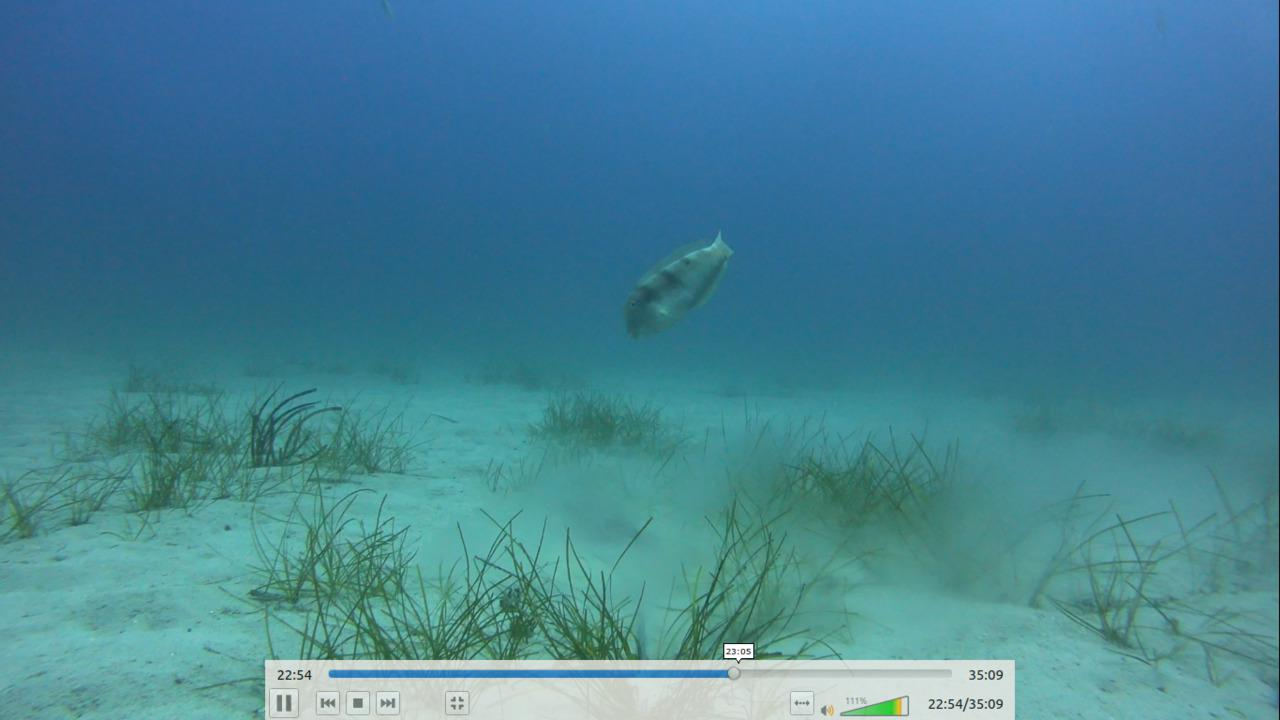raor: (616, 225, 736, 337)
